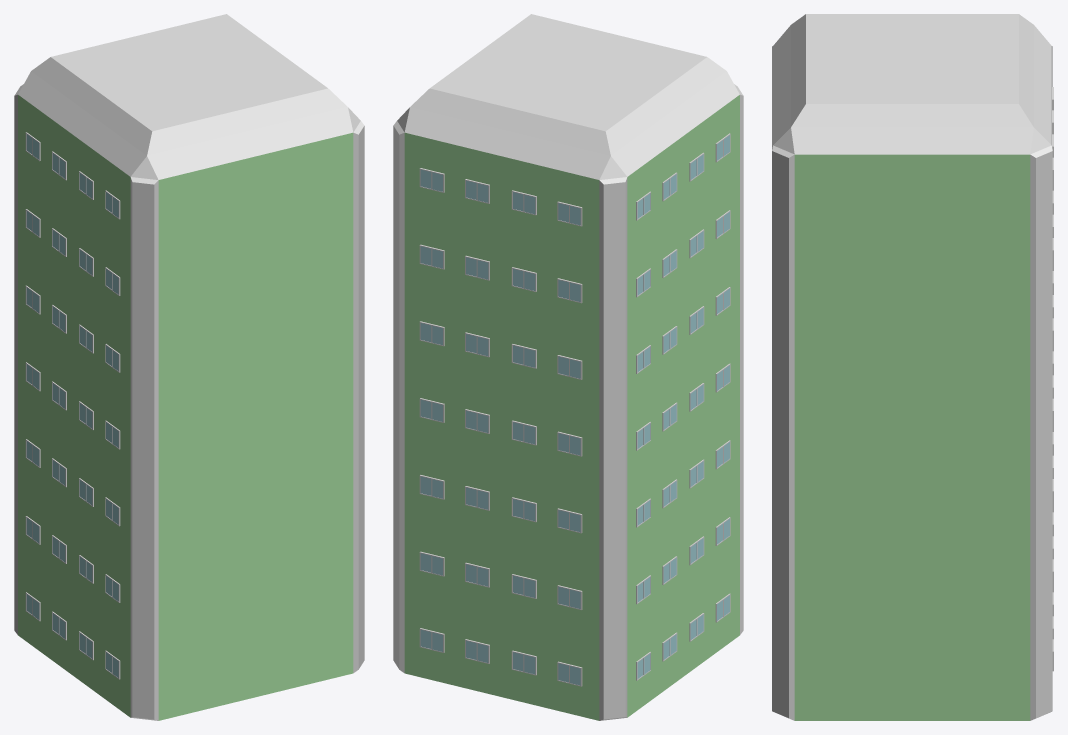
3 renders of one model, left to right at view 1: azimuth 30°, elevation 25°; view 2: azimuth 150°, elevation 25°; view 3: azimuth 270°, elevation 25°, orthographic. The views are drawn at different scales.
Parts seen in each view (by area): view 1: Cube.004; view 2: Cube.004; view 3: Cube.004.
Boxes of the visible parts, left/top/right/bottom form: Cube.004: left=14, top=14, right=364, bottom=720; Cube.004: left=393, top=14, right=743, bottom=720; Cube.004: left=772, top=14, right=1053, bottom=720.
Bounding box in the file's own units: 9865 × 23374 × 9896.
